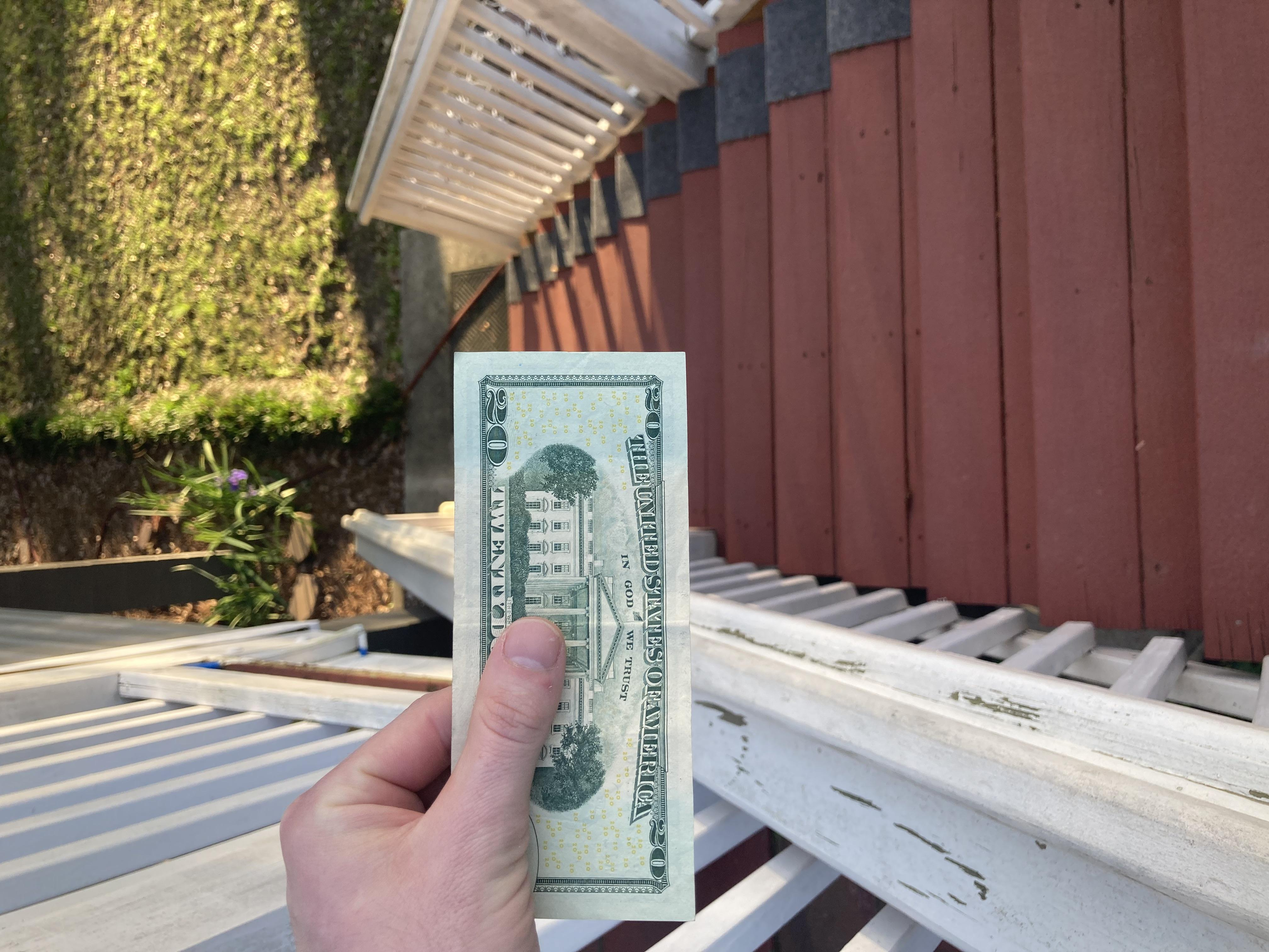twenty-back: (44, 340, 800, 520)
